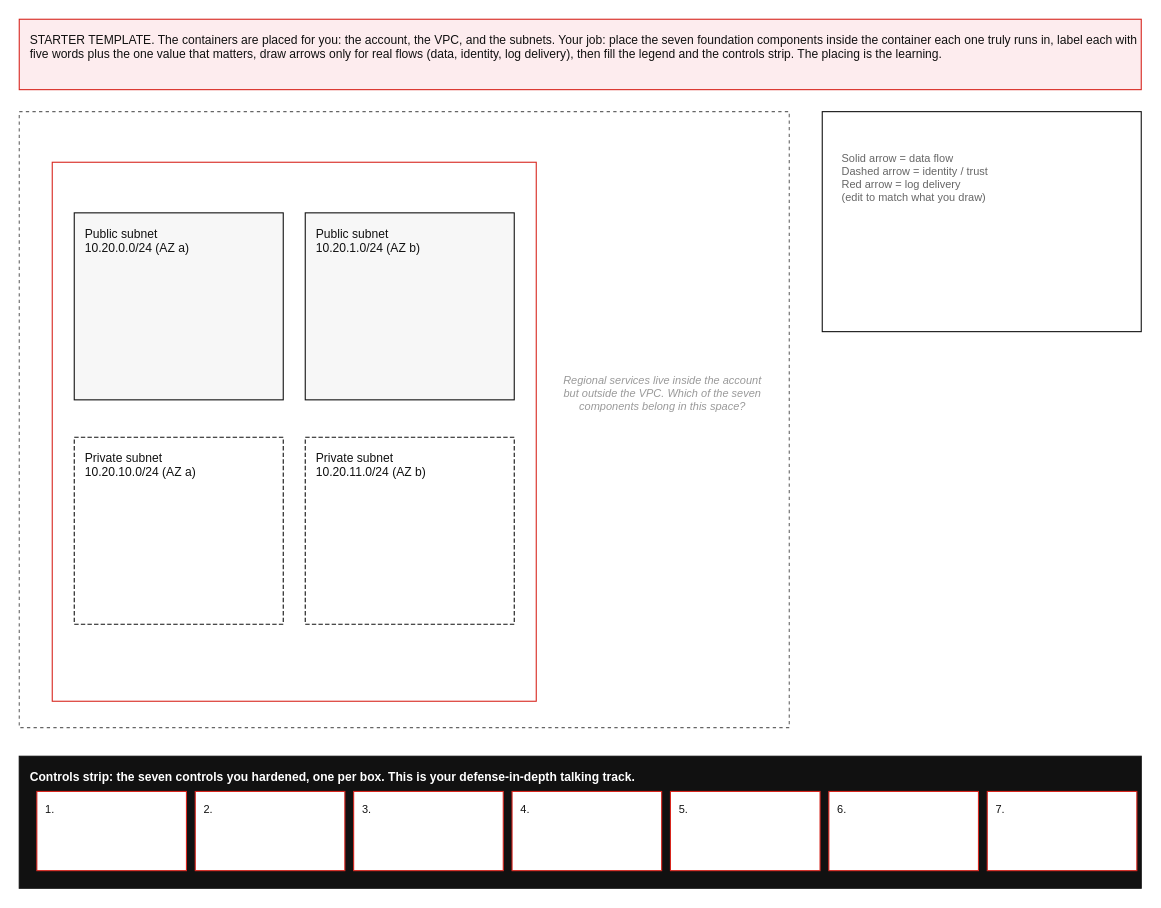
Image size: 1161x908. Some labels were removed from this diagram. Here are the shapes that lost their labels. From the top down, the box of each, then its label:
(821, 111, 1141, 332): Legend
(51, 161, 536, 701): VPC hwz-lab 10.20.0.0/16
(18, 111, 789, 728): AWS Account (isolated sandbox)
